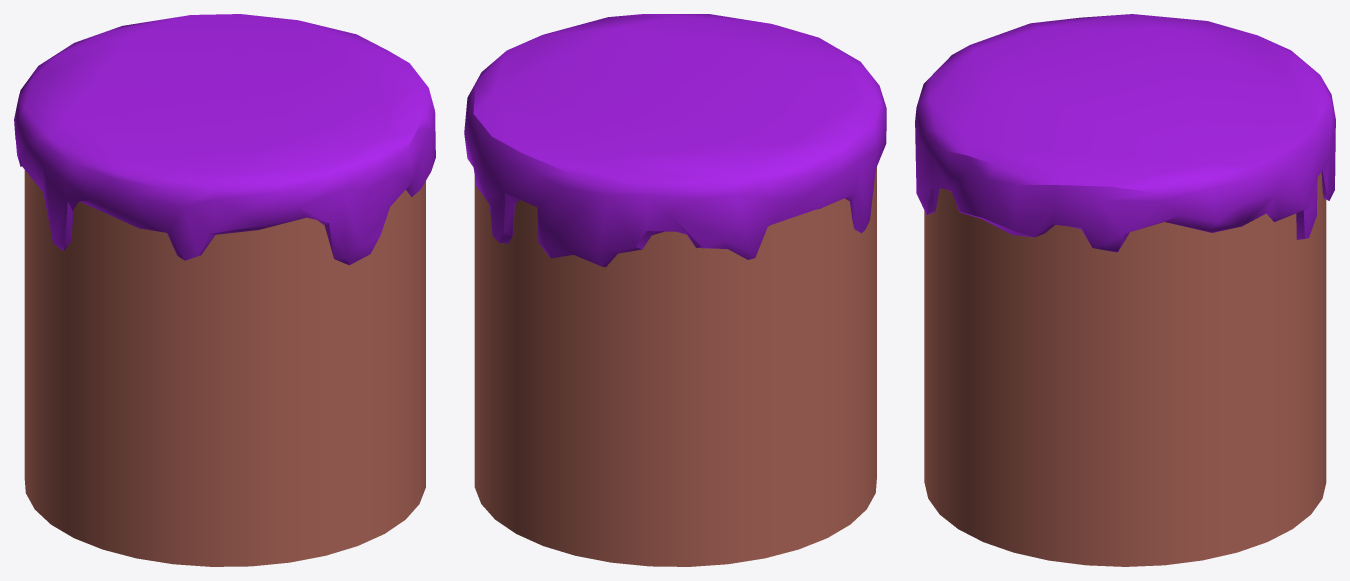
Rendered from Cake.fbx.
3 views of the same model, side by side, from view 1: azimuth 30°, elevation 25°; view 2: azimuth 150°, elevation 25°; view 3: azimuth 270°, elevation 25° (orthographic).
Visible parts, largest first — view 1: Cylinder, Cylinder.001; view 2: Cylinder, Cylinder.001; view 3: Cylinder, Cylinder.001.
Part boxes in pixels (box(x1,y1,x2,y2)): Cylinder: box(24, 170, 425, 566); Cylinder.001: box(14, 14, 435, 265); Cylinder: box(474, 167, 876, 566); Cylinder.001: box(464, 14, 886, 267); Cylinder: box(924, 172, 1326, 566); Cylinder.001: box(915, 14, 1335, 252).
Size of the model in its own units: 592 by 600 by 591.
